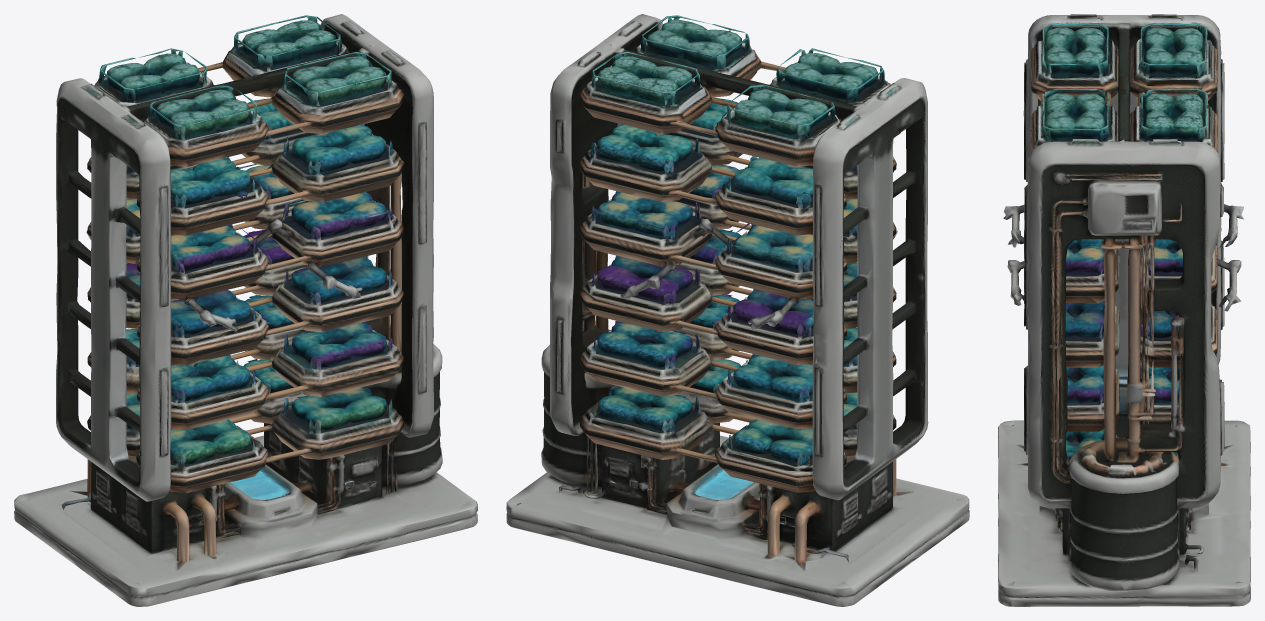
Rendered from Decorativo3.glb.
3 views of the same model, side by side, from view 1: azimuth 30°, elevation 25°; view 2: azimuth 150°, elevation 25°; view 3: azimuth 270°, elevation 25° (orthographic).
Visible parts, largest first — view 1: tripo_node_fd92a976-a830-4749-bab8-29737ff23374; view 2: tripo_node_fd92a976-a830-4749-bab8-29737ff23374; view 3: tripo_node_fd92a976-a830-4749-bab8-29737ff23374.
Boxes of the visible parts, x1,y1,x2,y2 form: tripo_node_fd92a976-a830-4749-bab8-29737ff23374: (14, 14, 477, 606); tripo_node_fd92a976-a830-4749-bab8-29737ff23374: (506, 14, 969, 606); tripo_node_fd92a976-a830-4749-bab8-29737ff23374: (998, 14, 1250, 606).
Size of the model in its own units: 0.8216 by 0.9783 by 0.5001.
Materials: 1 (1 with a texture image).
